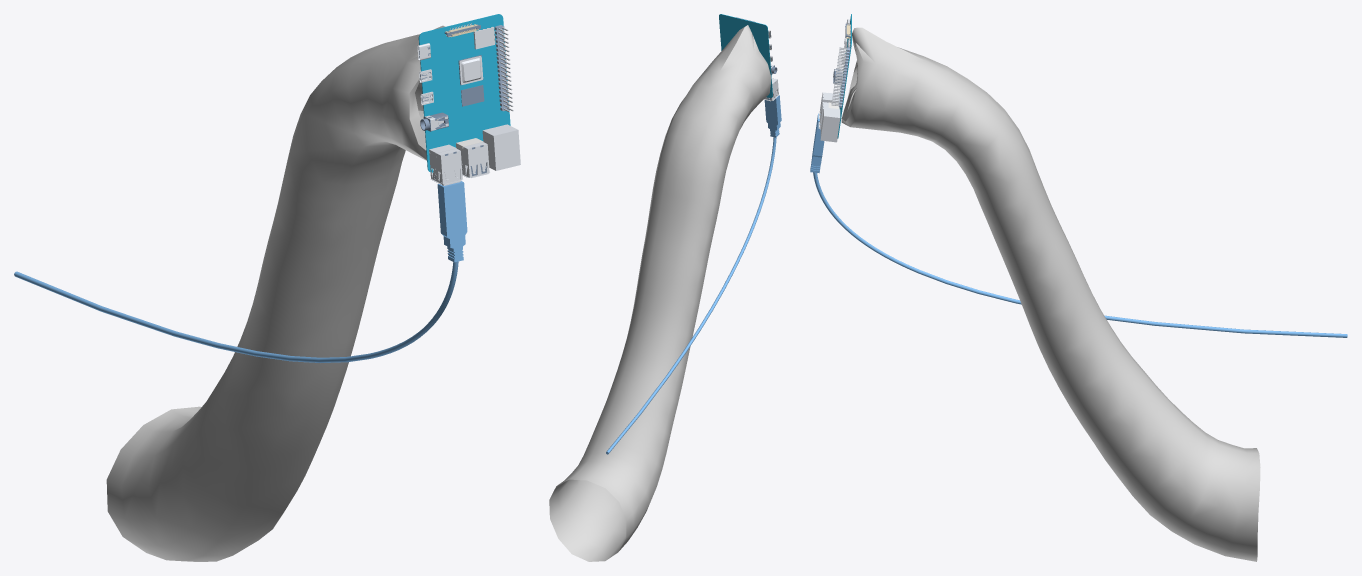
Rendered from circuit.glb.
3 renders of one model, left to right at view 1: azimuth 30°, elevation 25°; view 2: azimuth 150°, elevation 25°; view 3: azimuth 270°, elevation 25°, orthographic. The views are drawn at different scales.
Visible parts, largest first — view 1: el, plate, cable, Symmetry.1, Symmetry (×2), Cube.4, Cloner.2; view 2: el, cable, plate, Symmetry.1; view 3: el, cable.
Part boxes in pixels (x1,y1,x2,y2): el: (106,25,445,561); plate: (418,14,510,172); cable: (14,261,458,362); Symmetry.1: (437,181,467,262); Symmetry (×2): (429,142,489,184); Cube.4: (482,124,520,170); Cloner.2: (494,25,509,111); el: (549,25,771,561); cable: (606,137,776,454); plate: (719,14,772,97); Symmetry.1: (764,95,781,137); el: (841,27,1260,561); cable: (813,172,1347,337).
Size of the model in its own units: 30.08 by 129 by 117.
